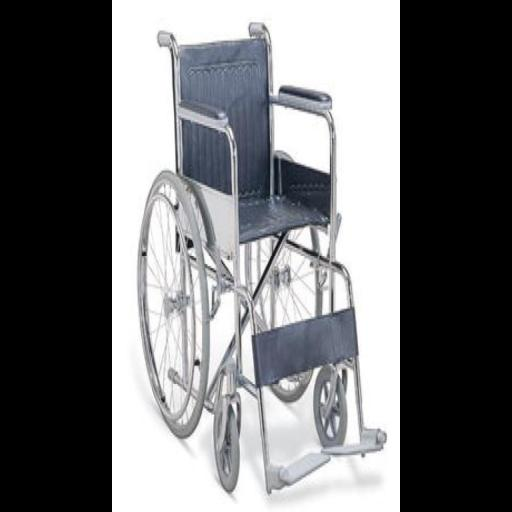cadeira_de_rodas: (137, 24, 388, 494)
